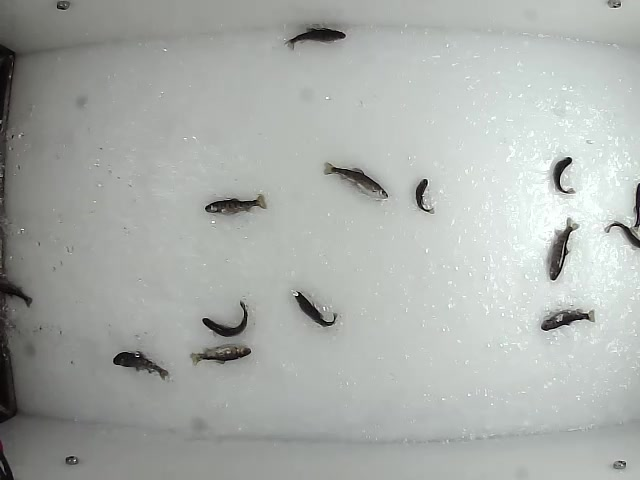fish: (324, 160, 390, 203), (545, 217, 581, 283), (289, 288, 340, 328), (201, 299, 249, 339), (111, 350, 171, 381), (187, 341, 255, 367), (202, 191, 267, 217), (539, 305, 598, 332), (282, 26, 347, 49), (552, 156, 577, 196), (414, 178, 437, 213)
